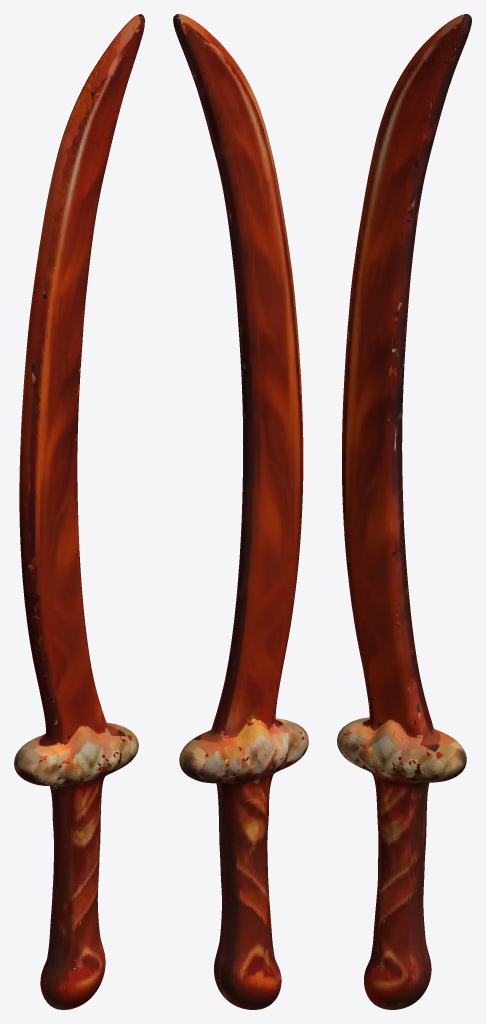
The model's file is bokken_source.glb.
3 views of the same model, side by side, from view 1: azimuth 30°, elevation 25°; view 2: azimuth 210°, elevation 25°; view 3: azimuth 330°, elevation 25° (orthographic). The views are drawn at different scales.
Parts seen in each view (by area): view 1: temp_mesh.ply; view 2: temp_mesh.ply; view 3: temp_mesh.ply.
Part boxes in pixels (x1,y1,x2,y2): temp_mesh.ply: (14,14,144,1009); temp_mesh.ply: (173,14,308,1009); temp_mesh.ply: (337,14,471,1009).
Size of the model in its own units: 0.2669 by 1.97 by 0.1173.
Materials: 1 (1 with a texture image).
